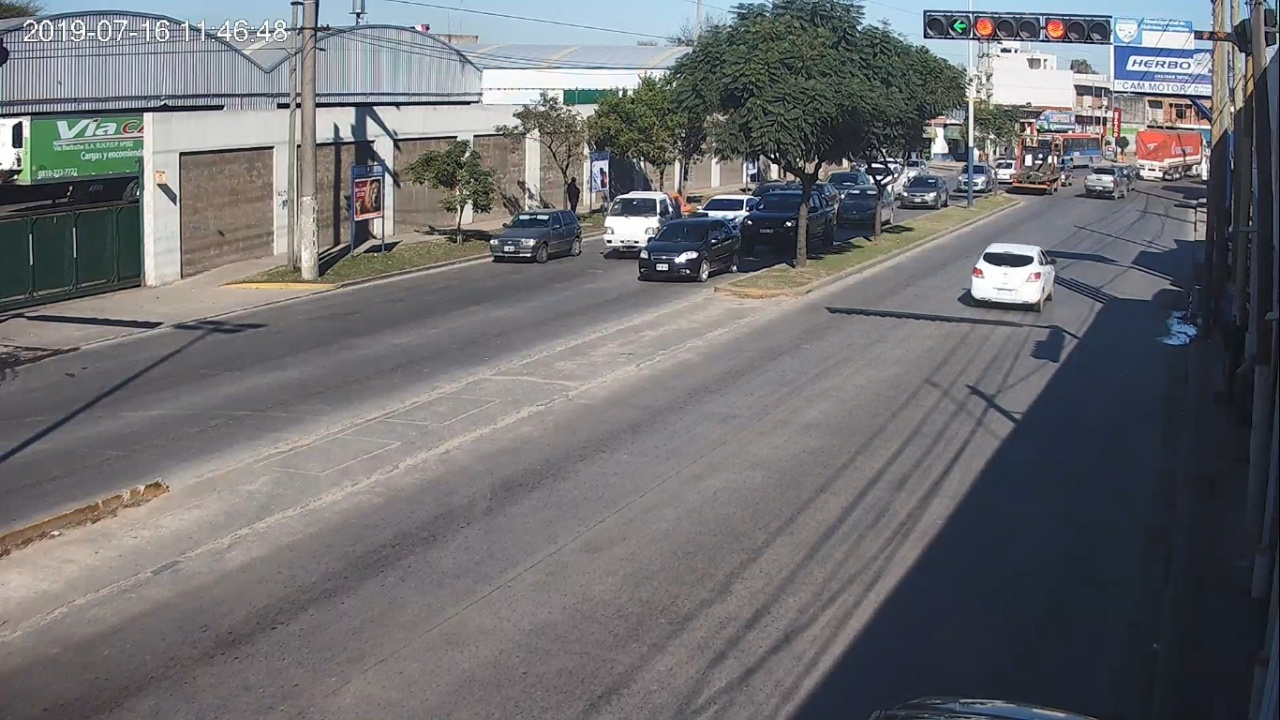car: (970, 243, 1057, 312)
front car: (490, 210, 582, 263)
traffic light: (974, 13, 1111, 42)
